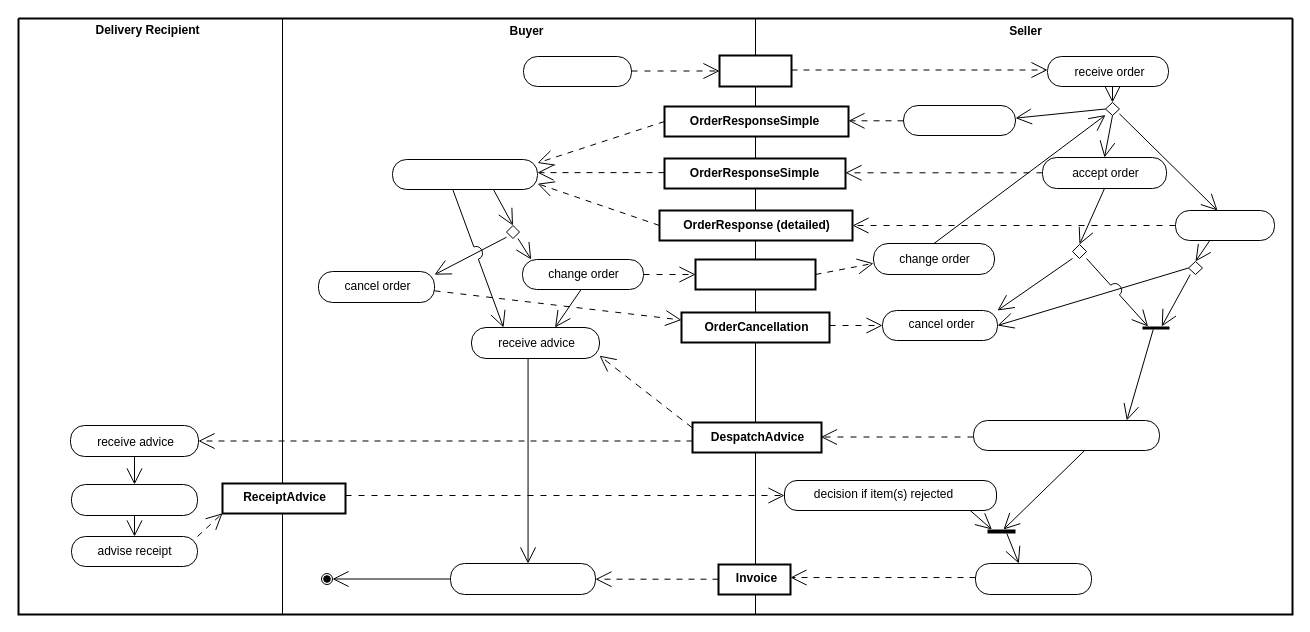
This 1310x632 diagram has some shape labels left out. The shapes that lost their labels are listed below. From the top down, each one's centre as x and y in pixels, then its label:
At point (577, 71): "place order".
At point (755, 70): "Order".
At point (959, 120): "reject order".
At point (465, 174): "receive response".
At point (1224, 225): "add detail".
At point (755, 274): "OrderChange".
At point (1066, 435): "despatch order item(s)".
At point (134, 500): "receive goods".
At point (523, 578): "reconcile invoice".
At point (1033, 578): "raise invoice".
